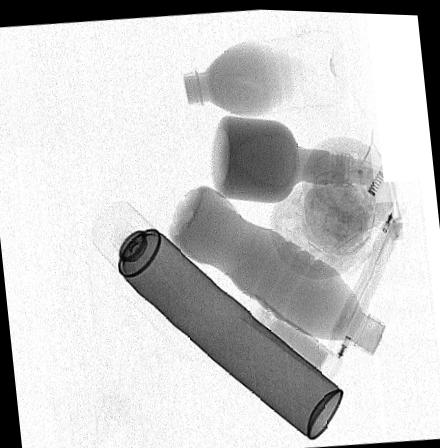Sprayer: (93, 199, 344, 437)
